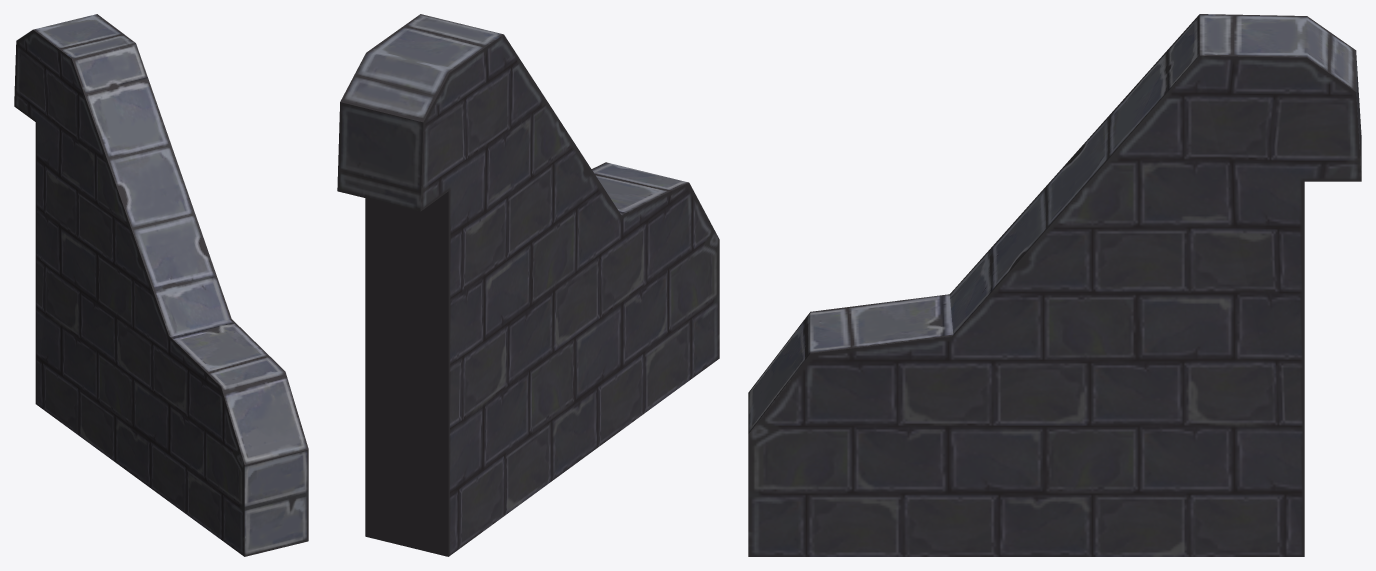
The model's file is dungeon_stairs_rail.fbx.
3 views of the same model, side by side, from view 1: azimuth 30°, elevation 25°; view 2: azimuth 150°, elevation 25°; view 3: azimuth 270°, elevation 25° (orthographic). The views are drawn at different scales.
Visible parts, largest first — view 1: suelo.001; view 2: suelo.001; view 3: suelo.001.
Part boxes in pixels (x1=…): suelo.001: x1=14, y1=14, x2=308, y2=556; suelo.001: x1=337, y1=14, x2=719, y2=556; suelo.001: x1=748, y1=14, x2=1361, y2=556.
Size of the model in its own units: 50.15 by 266 by 296.
